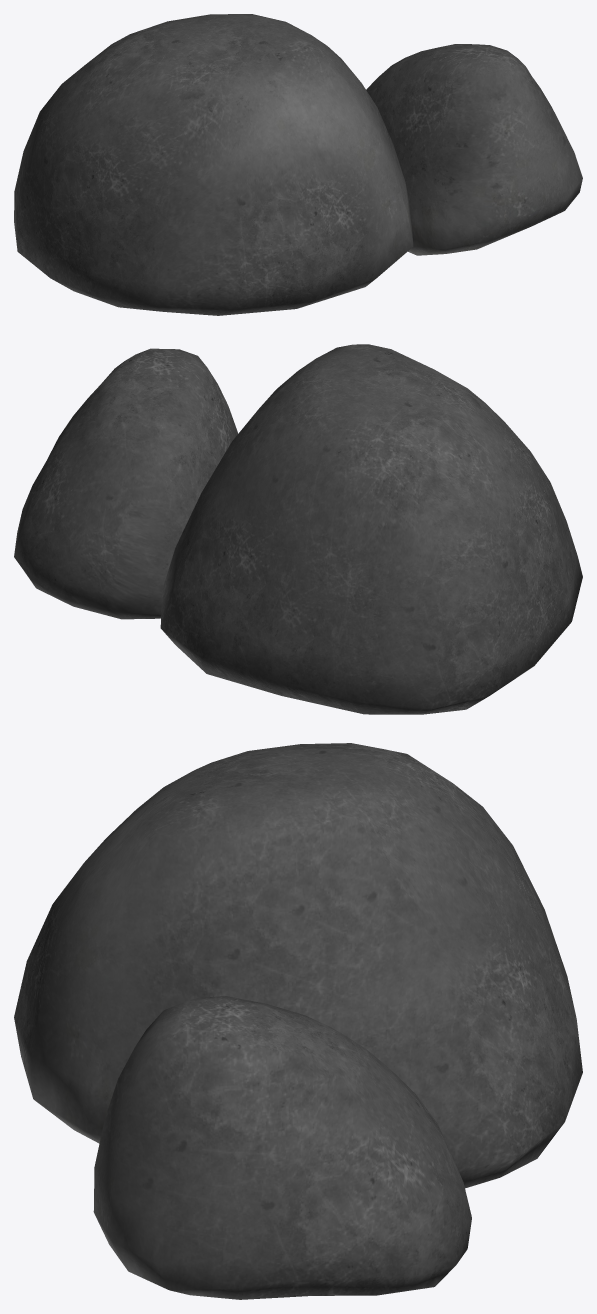
File: rocks1 (4).fbx
3 renders of one model, top to bottom at view 1: azimuth 30°, elevation 25°; view 2: azimuth 150°, elevation 25°; view 3: azimuth 270°, elevation 25°, orthographic. The views are drawn at different scales.
Parts seen in each view (by area): view 1: polySurface5; view 2: polySurface5; view 3: polySurface5.
Part boxes in pixels (x1,y1,x2,y2): polySurface5: (14,14,582,315); polySurface5: (14,344,582,714); polySurface5: (14,743,582,1299).
Bounding box in the file's own units: 6.26 × 3.04 × 4.4.
1 material, 1 textured.
